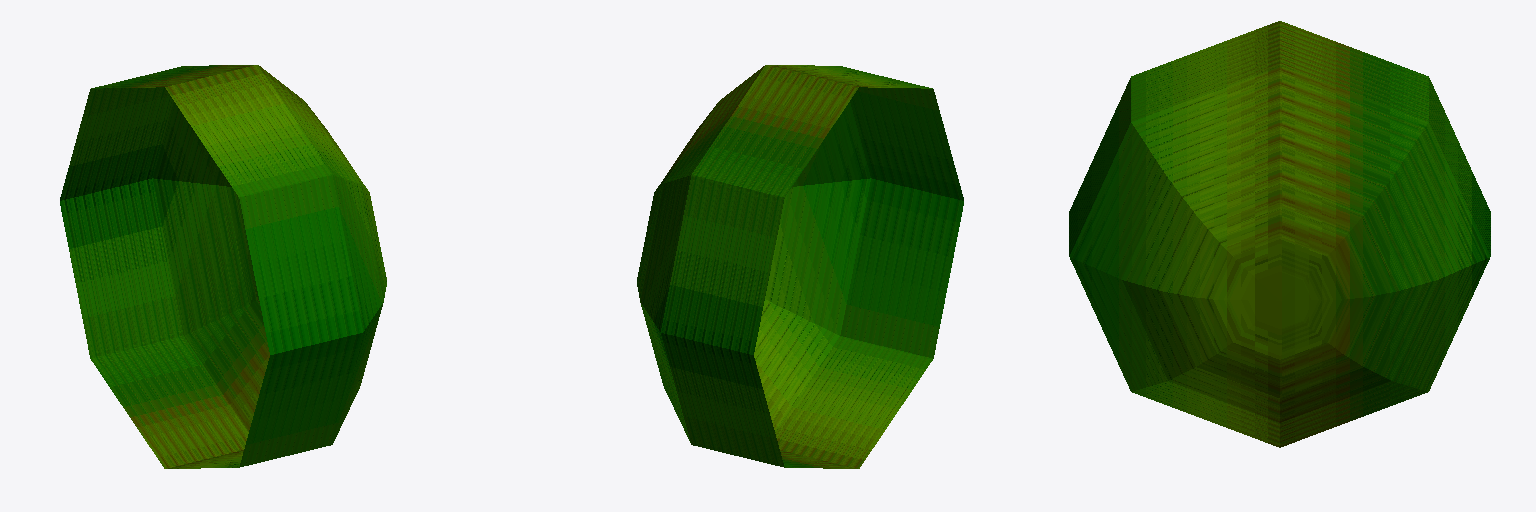
The picture shows the model from 3 angles: view 1: azimuth 30°, elevation 25°; view 2: azimuth 150°, elevation 25°; view 3: azimuth 270°, elevation 25°; orthographic projection.
Size of the model in its own units: 1 by 2 by 2.
Materials: 1 (1 with a texture image).